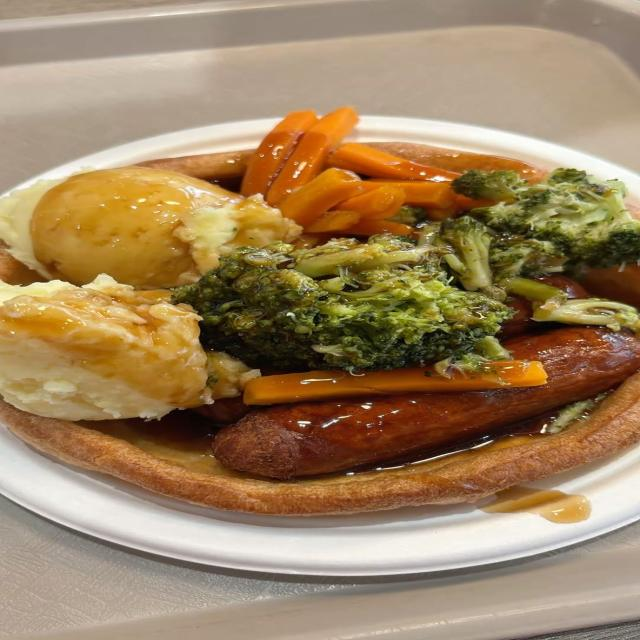broccoli: (173, 235, 513, 373), (474, 169, 639, 267), (437, 216, 505, 300), (490, 234, 567, 283), (531, 298, 639, 332), (451, 169, 525, 201)
carrot: (0, 370, 639, 515), (244, 361, 546, 405), (267, 107, 358, 205), (240, 111, 317, 196), (363, 142, 544, 178), (277, 168, 363, 229), (330, 143, 459, 181), (134, 150, 253, 179), (136, 151, 249, 179), (365, 180, 455, 208), (337, 186, 404, 221), (344, 219, 412, 236), (306, 211, 359, 232)
mashed potatoes: (0, 166, 301, 289), (0, 274, 217, 420)
sausage: (214, 327, 639, 478), (363, 142, 545, 180), (138, 151, 253, 180), (500, 297, 545, 339)
